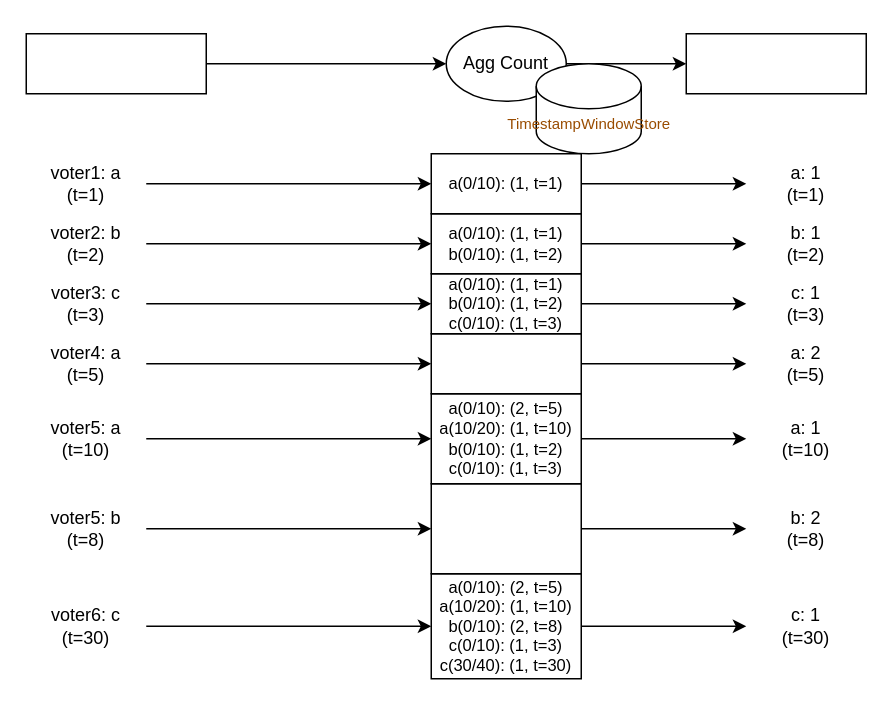
Image size: 893x705. Some labels were removed from this diagram. Here are the shapes that lost their labels. From the top down, the centre of each, then its label:
At (x=115, y=63): "input-topic".
At (x=775, y=63): "output-topic".
At (x=505, y=363): "a(0/10): (2, t=5) b(0/10): (1, t=2) c(0/10): (1, t=3)".
At (x=505, y=528): "a(0/10): (2, t=5) a(10/20):(1, t=10) b(0/10): (2, t=8) c(0/10): (1, t=3)".
